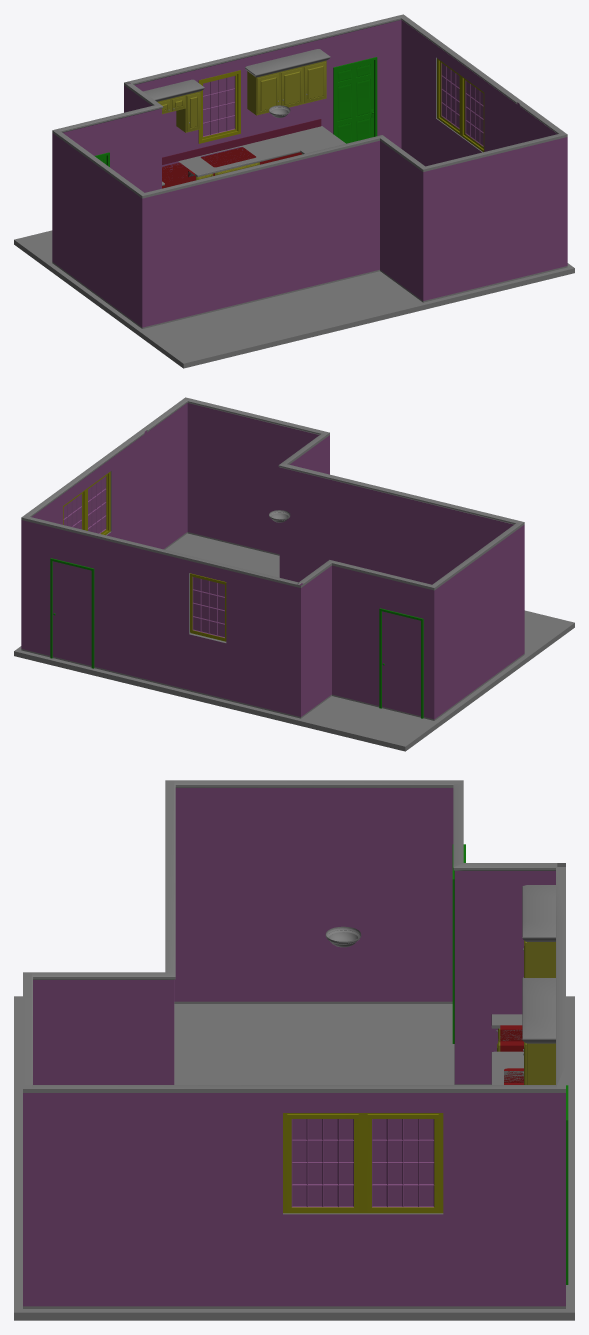
File: FloorPlan7.fbx
The picture shows the model from 3 angles, top to bottom: view 1: azimuth 30°, elevation 25°; view 2: azimuth 150°, elevation 25°; view 3: azimuth 270°, elevation 25°; orthographic projection. The views are drawn at different scales.
Parts seen in each view (by area): view 1: StandardWallSize, Floor, StandardCounterHeightWidth, StandardDoor1 (2), StandardUpperCabinetHeightWidth (3), Glass, StandardWallTileHeight1, StandardUpperCabinetHeightWidth, Glass (3), Glass (2), Cabinet (7), Cabinet (6) (+5 smaller); view 2: StandardWallSize, Floor, Glass, StandardDoorFrame1 (2), Glass (3), StandardDoorFrame1, WindowDetail, StandardWindow1 (3), Glass (2); view 3: StandardWallSize, Floor, Glass (3), Glass (2), StandardUpperCabinetHeightWidth (3), StandardUpperCabinetHeightWidth, StandardCounterHeightWidth, StandardWindow1, StandardWindow1 (2), WindowDetail (3), WindowTreatment2, WindowDetail (2) (+1 smaller).
Part boxes in pixels (bbox=[...]): StandardWallSize: bbox=[52, 14, 567, 328]; Floor: bbox=[14, 230, 574, 368]; StandardCounterHeightWidth: bbox=[162, 126, 345, 188]; StandardDoor1 (2): bbox=[335, 60, 373, 143]; StandardUpperCabinetHeightWidth (3): bbox=[245, 49, 330, 115]; Glass: bbox=[203, 76, 234, 136]; StandardWallTileHeight1: bbox=[162, 119, 321, 164]; StandardUpperCabinetHeightWidth: bbox=[143, 79, 204, 132]; Glass (3): bbox=[466, 81, 483, 145]; Glass (2): bbox=[442, 63, 459, 127]; Cabinet (7): bbox=[304, 62, 325, 102]; Cabinet (6): bbox=[281, 68, 302, 106]; StandardWallSize: bbox=[21, 397, 524, 720]; Floor: bbox=[14, 533, 574, 751]; Glass: bbox=[193, 577, 224, 636]; StandardDoorFrame1 (2): bbox=[50, 558, 94, 668]; Glass (3): bbox=[88, 477, 105, 533]; StandardDoorFrame1: bbox=[379, 608, 423, 718]; WindowDetail: bbox=[192, 577, 224, 637]; StandardWindow1 (3): bbox=[190, 573, 226, 640]; Glass (2): bbox=[63, 494, 81, 528]; StandardWallSize: bbox=[23, 780, 565, 1308]; Floor: bbox=[14, 996, 574, 1320]; Glass (3): bbox=[292, 1119, 353, 1206]; Glass (2): bbox=[372, 1119, 433, 1206]; StandardUpperCabinetHeightWidth (3): bbox=[522, 978, 555, 1084]; StandardUpperCabinetHeightWidth: bbox=[522, 885, 555, 977]; StandardCounterHeightWidth: bbox=[491, 1014, 523, 1084]; StandardWindow1: bbox=[367, 1114, 438, 1211]; StandardWindow1 (2): bbox=[287, 1114, 358, 1211]; WindowDetail (3): bbox=[291, 1119, 353, 1207]; WindowTreatment2: bbox=[363, 1113, 443, 1213]; WindowDetail (2): bbox=[372, 1119, 434, 1207].
Bounding box in the file's own units: 840 × 283 × 630.
